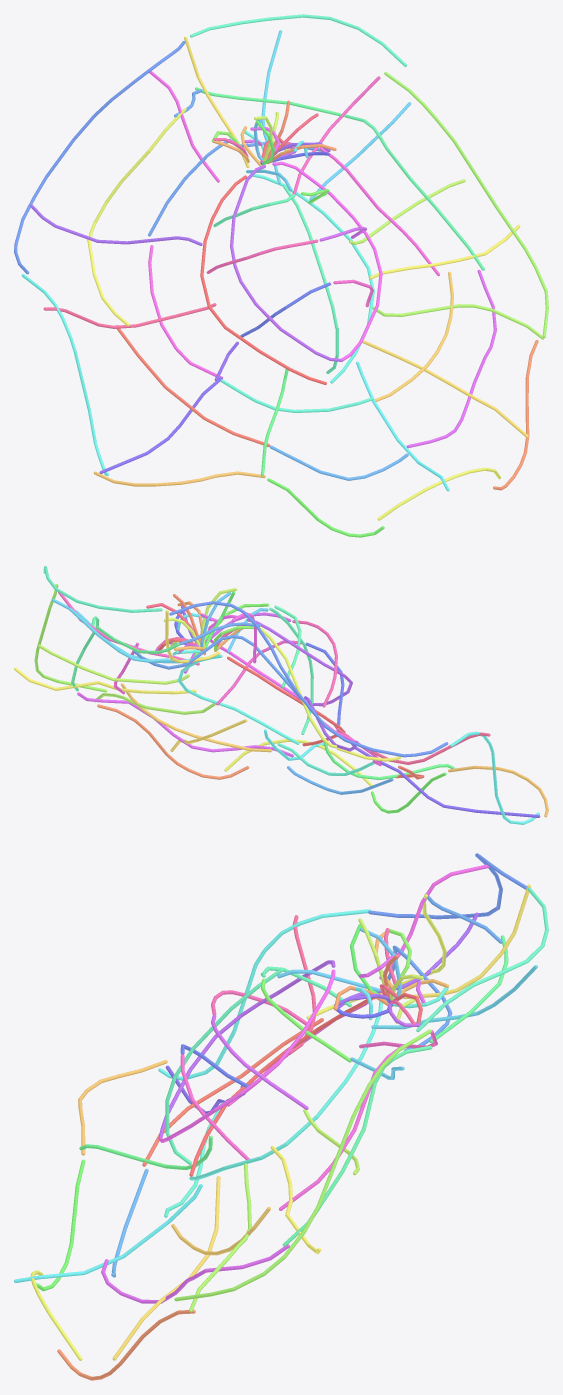
File: cassie_hat.gltf
3 views of the same model, one above another, from view 1: azimuth 30°, elevation 25°; view 2: azimuth 150°, elevation 25°; view 3: azimuth 270°, elevation 25° (orthographic). The views are drawn at different scales.
Size of the model in its own units: 0.6952 by 0.4785 by 0.5489.
